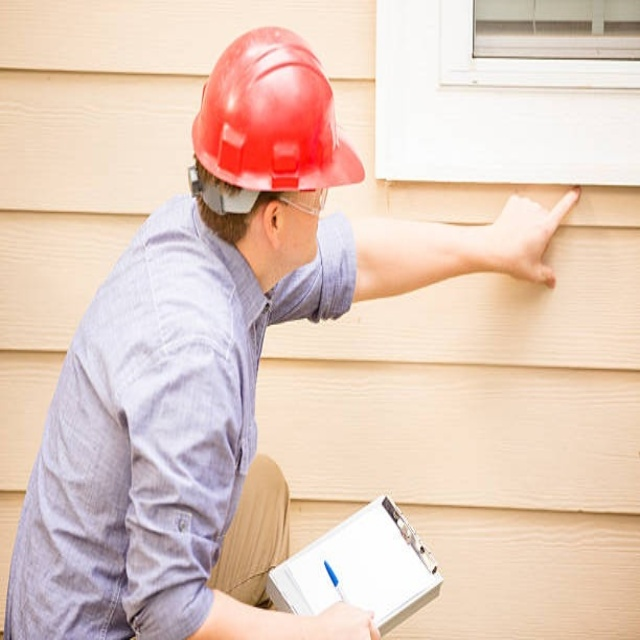Gafas: (271, 182, 332, 218)
Sin_guantes: (495, 185, 583, 288), (299, 604, 385, 638)
